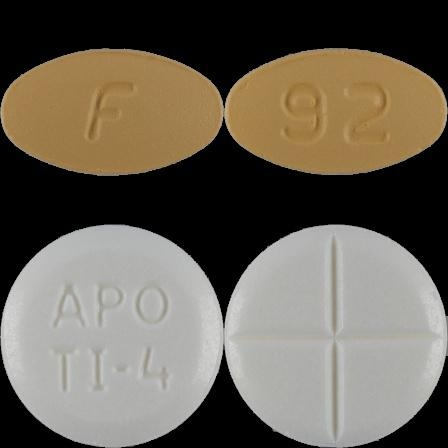10544-575: (0, 0, 224, 224)
